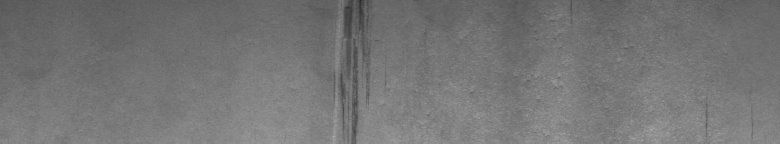hd: (334, 4, 369, 136)
